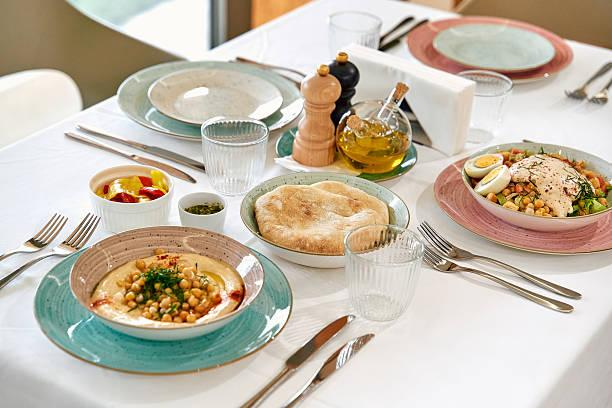Braised Crucian Carp: (64, 225, 264, 343), (431, 136, 612, 255), (240, 170, 406, 269)
